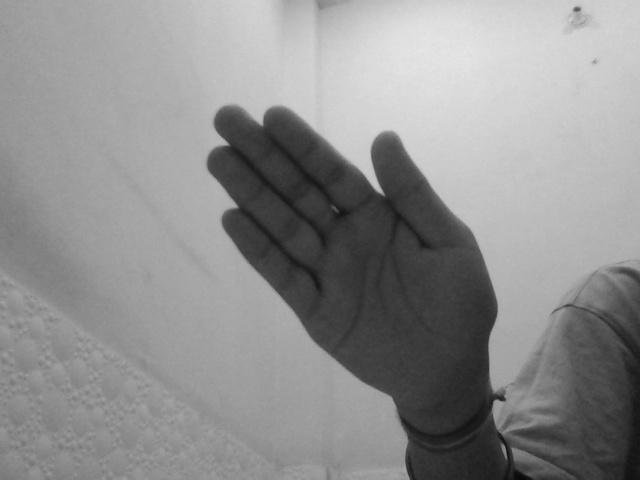Hello: (198, 101, 499, 428)
